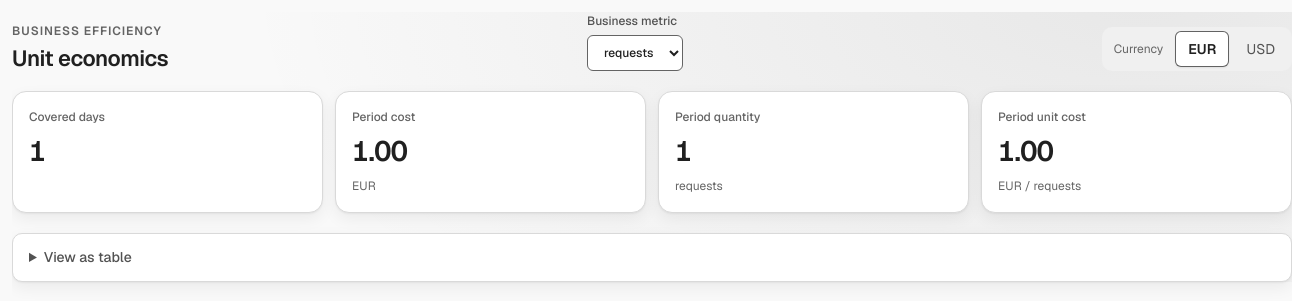
Test case: UnitEconomics › selecting a currency refetches unit economics with the encoded currency
The width and height of the screenshot is (1292, 301).
expect the element "Currency" is shown: met, box top-left (1102, 27), bottom-right (1291, 71)
expect the text titled "1.000000000000000001 EUR" below "Period cost" is shown: met, box top-left (352, 133), bottom-right (407, 169)
Observe the committed currency-mismatch frame before passive effects run.
Click the button "USD". click: (1261, 49)
box: top-left (1234, 31), bottom-right (1288, 67)
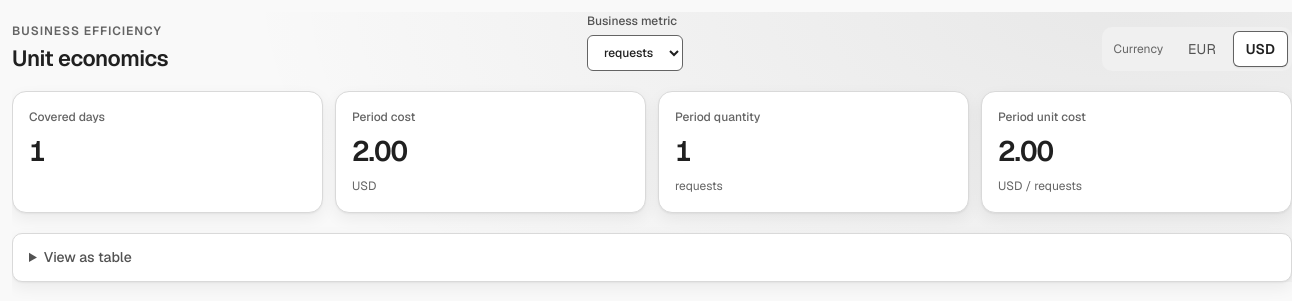
expect the text titled "2.000000000000000002 USD" below "Period cost" is shown: met, box top-left (352, 133), bottom-right (407, 169)
